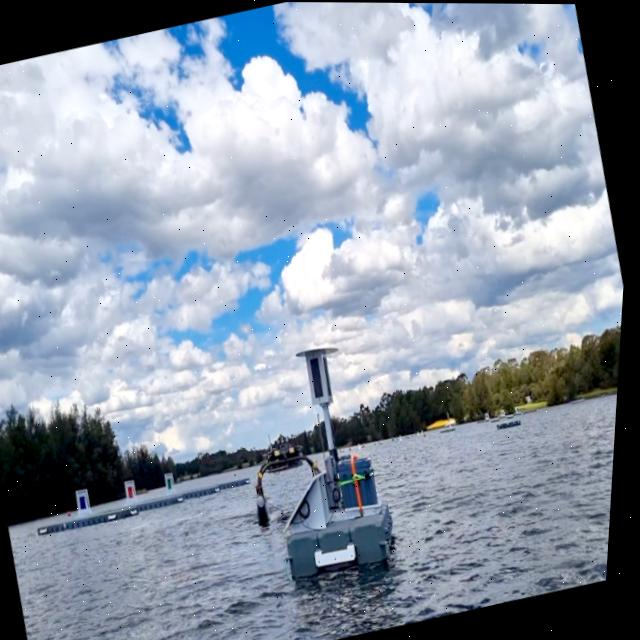led: (309, 352, 334, 402)
